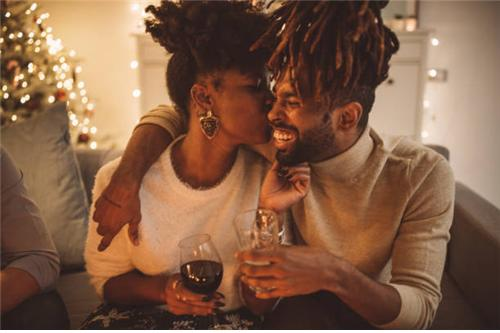alcohol: (179, 232, 227, 330), (234, 208, 281, 293)
